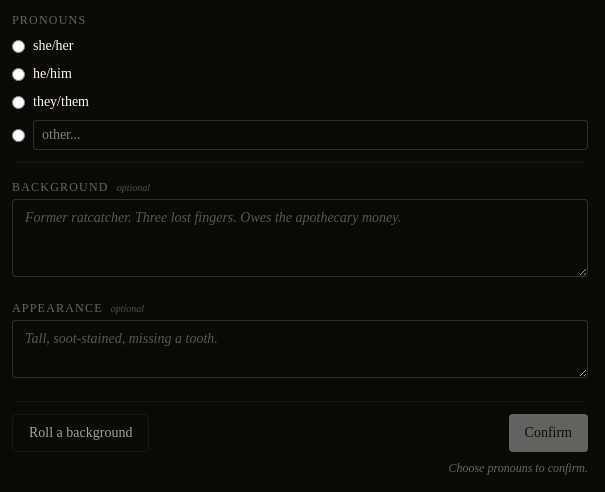
StoryPanel › disables confirm button until pronouns selected
Expected: the button with test id "story-confirm" is disabled, [508,414,588,452]
What coordinates should you click on to do the following:
click the label with test id "story-pronoun-they/them"
I would click on:
 (50, 102)
Its box is [12,94,89,109].
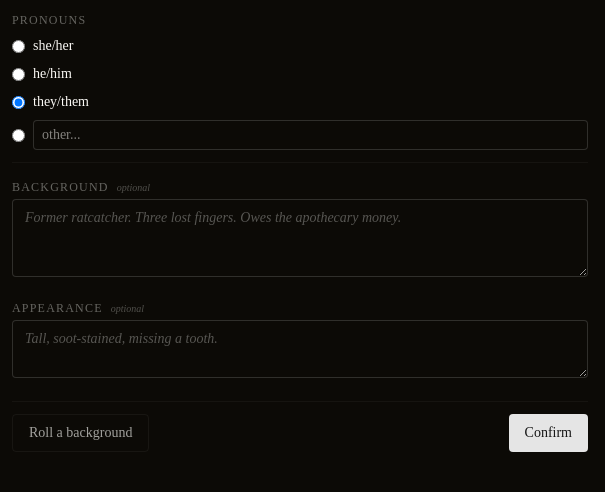
Expected: the button with test id "story-confirm" is enabled, [508,414,588,452]
